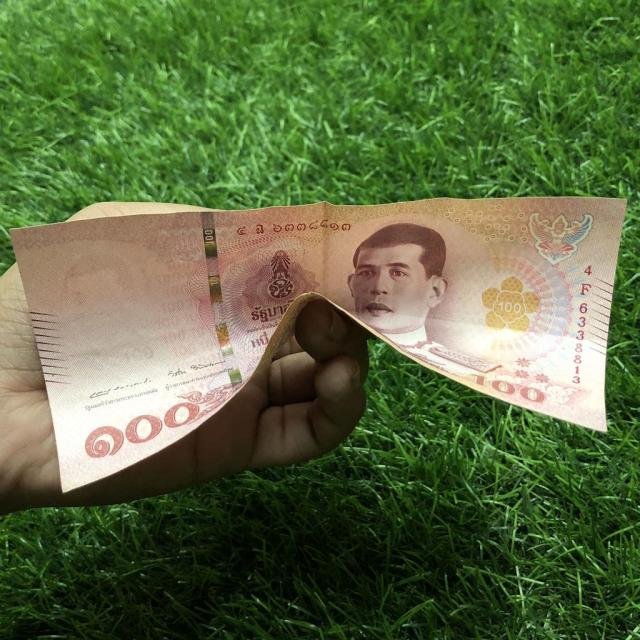THAI100: (0, 198, 625, 494)
